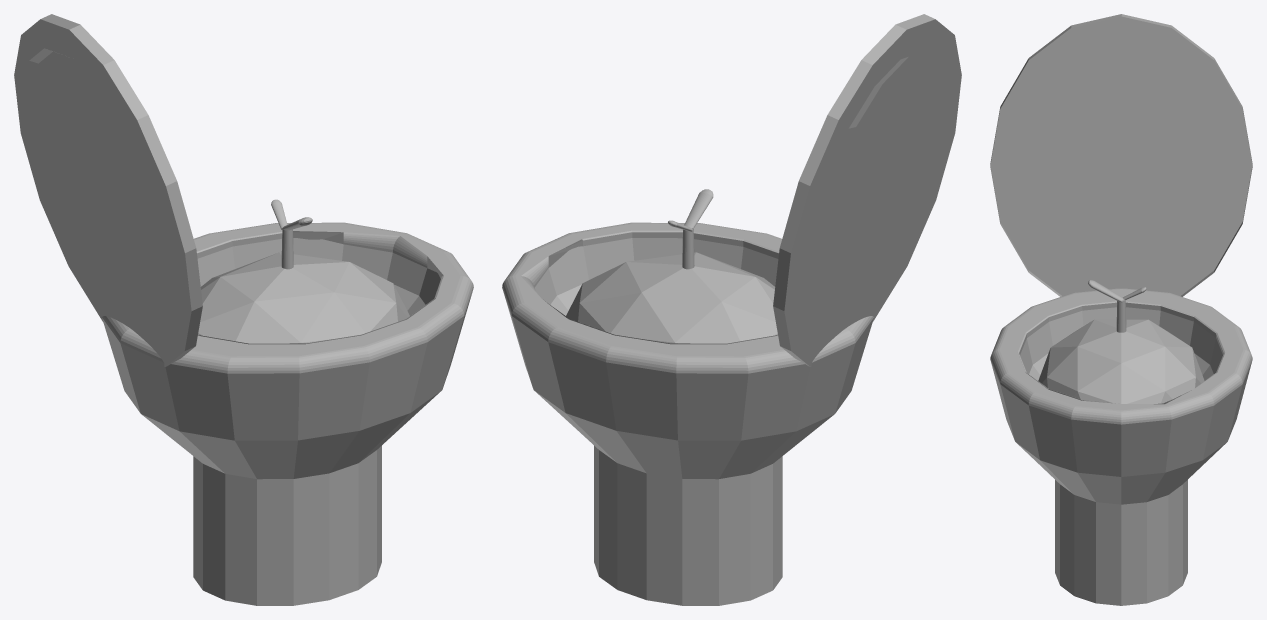
File: toilet.fbx
3 views of the same model, side by side, from view 1: azimuth 30°, elevation 25°; view 2: azimuth 150°, elevation 25°; view 3: azimuth 270°, elevation 25° (orthographic). The views are drawn at different scales.
Visible parts, largest first — view 1: Sphere; view 2: Sphere; view 3: Sphere.
Part boxes in pixels (box(x1,y1,x2,y2)): Sphere: box(14, 14, 473, 605); Sphere: box(502, 14, 961, 605); Sphere: box(990, 14, 1252, 605).
Bounding box in the file's own units: 229 × 336 × 168.
